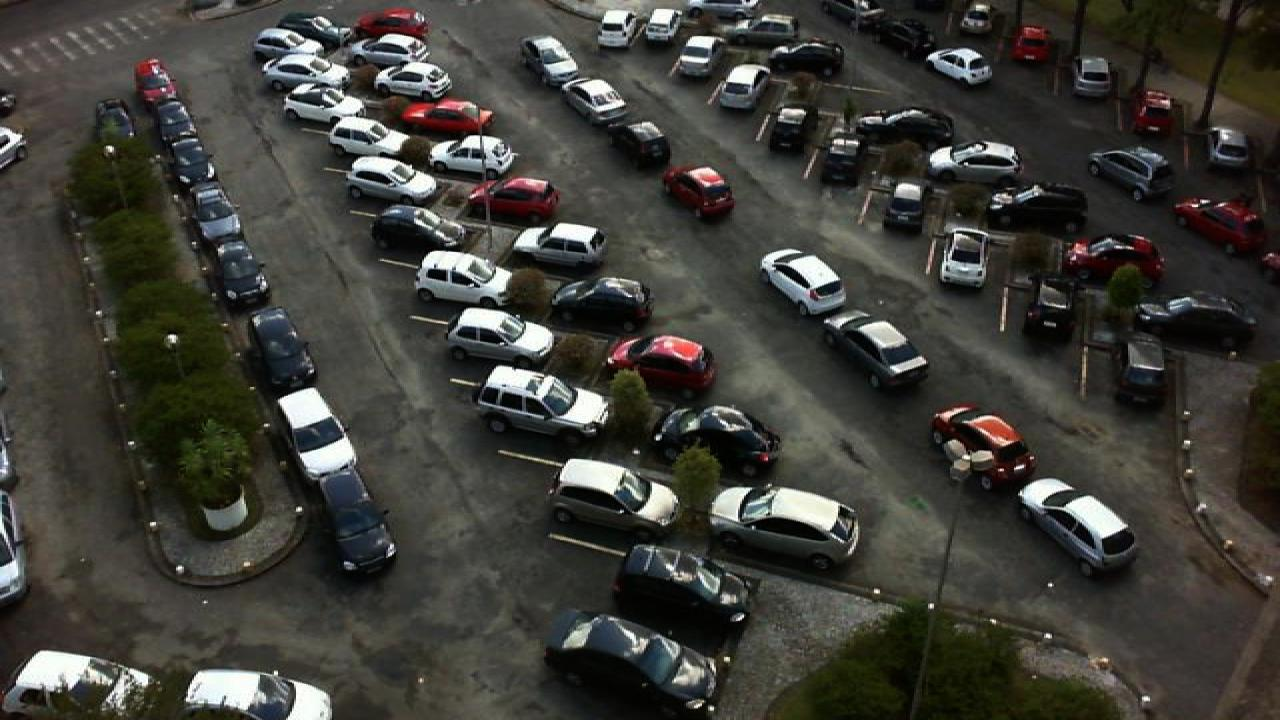Car: (544, 607, 722, 720), (704, 482, 862, 568), (1016, 476, 1140, 577), (612, 541, 750, 628), (470, 363, 616, 439), (0, 649, 152, 720), (544, 456, 682, 533), (652, 402, 782, 478), (926, 404, 1038, 492), (318, 468, 398, 573), (822, 312, 930, 389), (180, 667, 332, 720), (276, 386, 358, 479), (604, 333, 720, 397), (1132, 292, 1256, 350), (442, 306, 558, 363), (546, 275, 658, 333), (758, 246, 850, 316), (412, 250, 514, 308), (248, 306, 316, 390), (1172, 197, 1272, 254), (986, 181, 1090, 234), (1066, 232, 1166, 287), (508, 221, 608, 272), (370, 204, 470, 253), (1022, 273, 1086, 346), (1116, 320, 1172, 402), (470, 177, 562, 226), (922, 140, 1024, 184), (1088, 146, 1174, 198), (344, 156, 440, 202), (660, 164, 738, 220), (854, 106, 956, 144), (428, 132, 516, 176), (322, 115, 412, 158), (190, 184, 250, 246), (210, 248, 272, 308), (606, 118, 676, 171), (556, 75, 630, 125), (936, 226, 990, 292), (282, 83, 368, 123), (522, 35, 588, 87), (400, 99, 494, 135), (258, 54, 346, 91), (372, 61, 452, 101), (760, 41, 848, 76), (348, 32, 430, 68), (926, 46, 996, 87), (250, 26, 328, 62), (172, 142, 228, 192), (714, 63, 770, 113), (156, 99, 210, 149), (870, 20, 940, 58), (880, 181, 928, 236), (676, 32, 728, 80), (350, 7, 430, 38), (1206, 125, 1254, 173), (818, 136, 864, 185), (722, 12, 802, 40), (766, 103, 810, 152), (1132, 88, 1176, 136), (594, 9, 644, 51), (134, 58, 180, 103), (282, 11, 348, 40), (1072, 55, 1112, 100), (1010, 24, 1050, 64), (644, 6, 684, 44), (958, 2, 998, 36)
